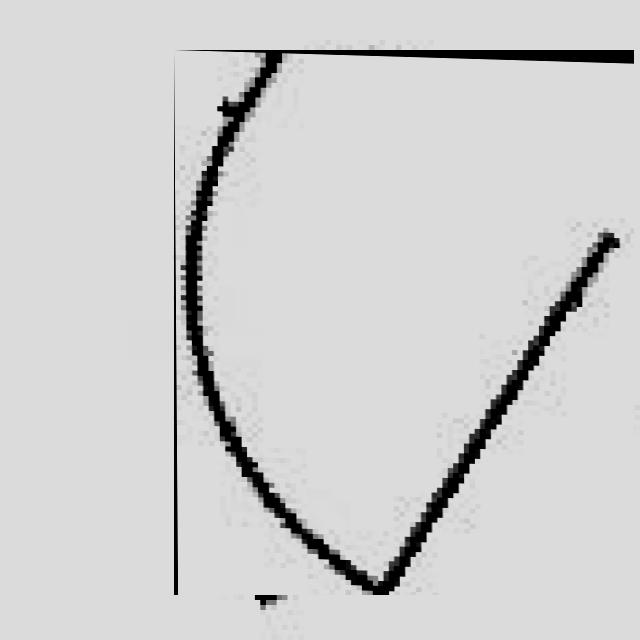door: (174, 50, 634, 595)
